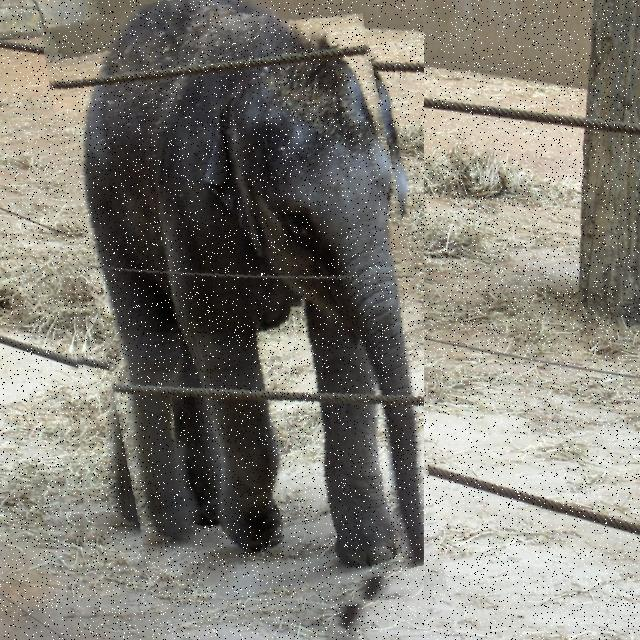elephant: (64, 0, 424, 628)
